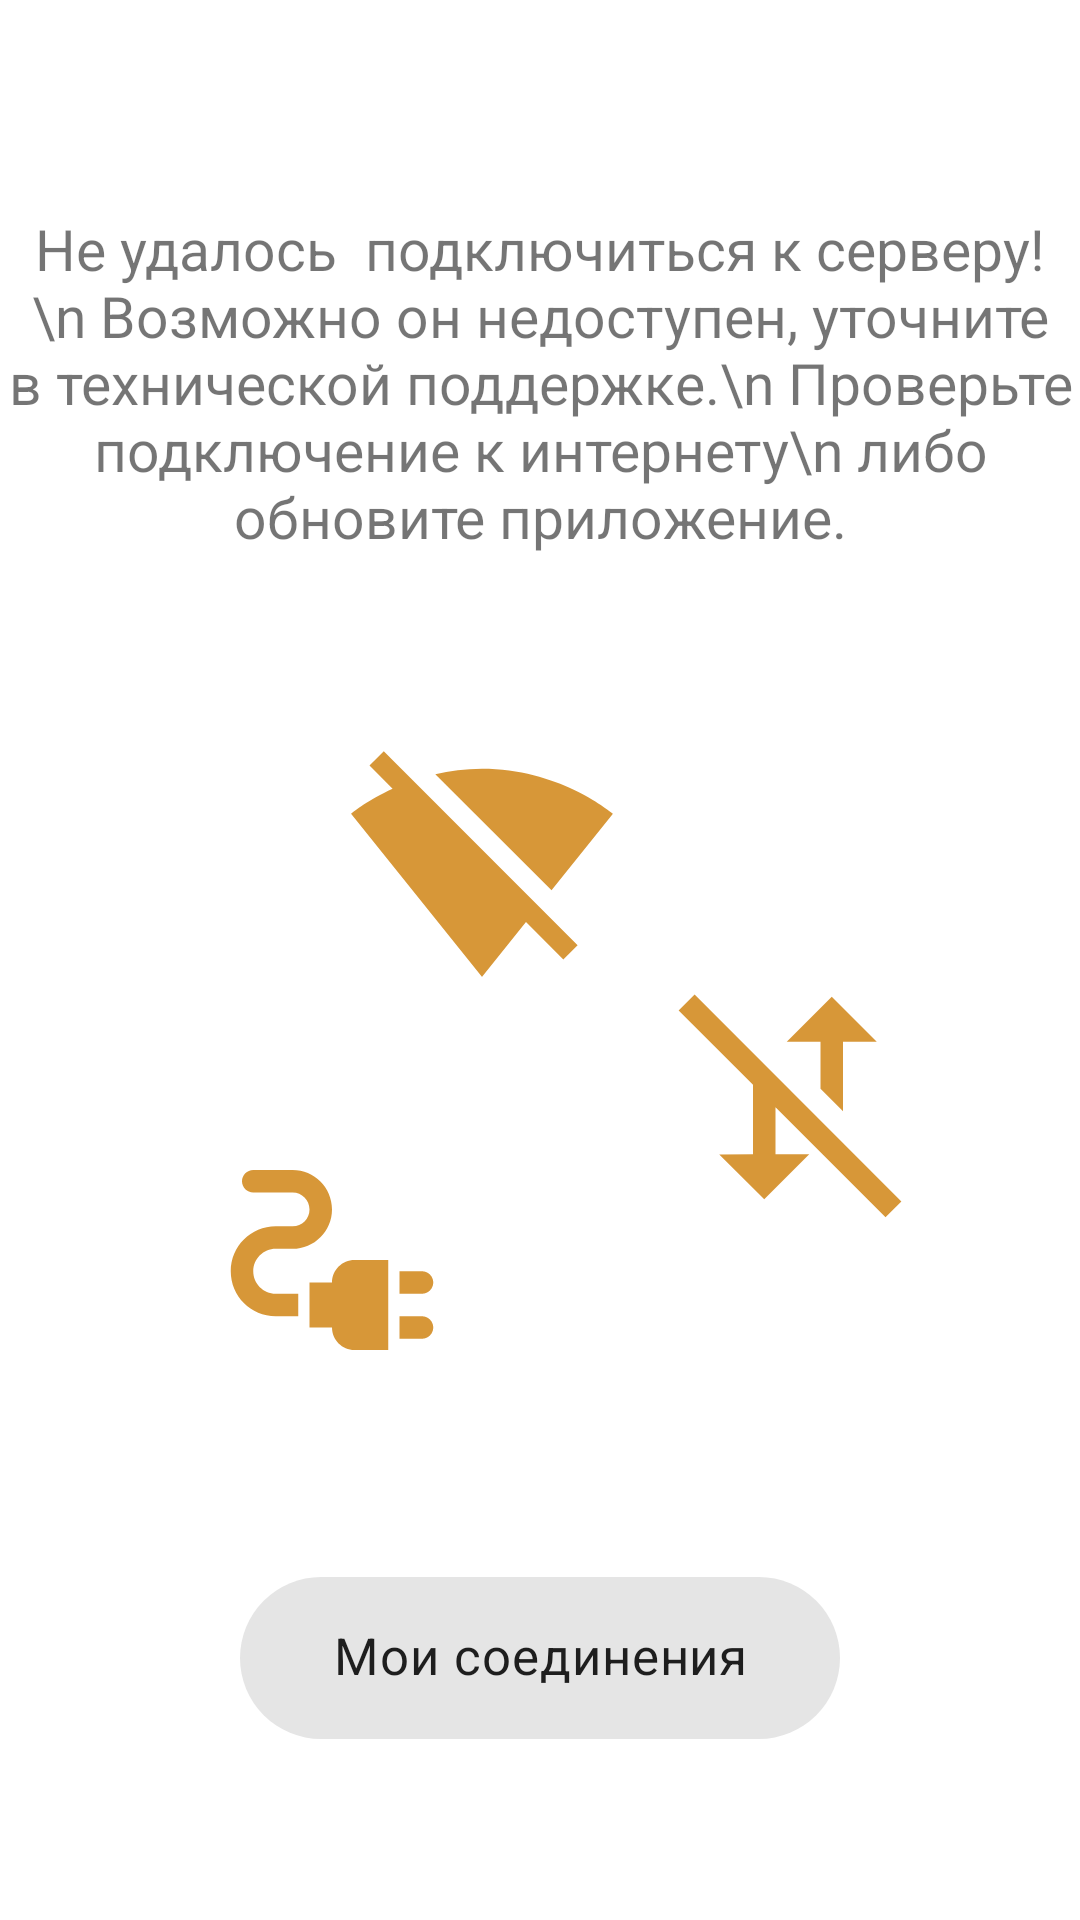

Icons on this 1080x1920 Android screen, each with its box as (x1=x1, y1=y1, x2=x2, y2=y2):
no internet: (x1=678, y1=994, x2=902, y2=1217)
no server internet: (x1=230, y1=1170, x2=434, y2=1350)
no wifi internet: (x1=351, y1=751, x2=613, y2=977)
